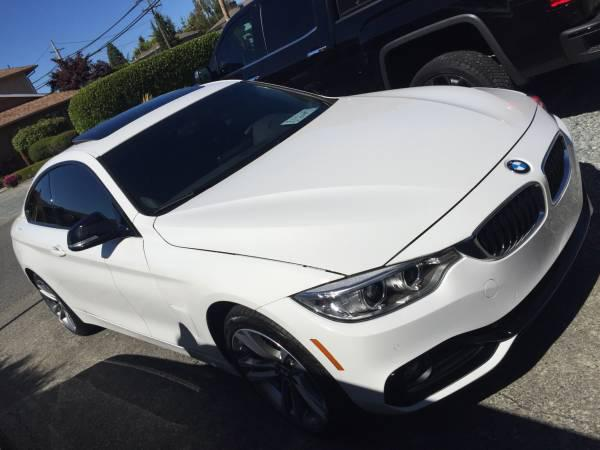bmw: (1, 73, 598, 437)
